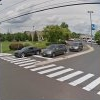crosswalk: (0, 55, 100, 94)
